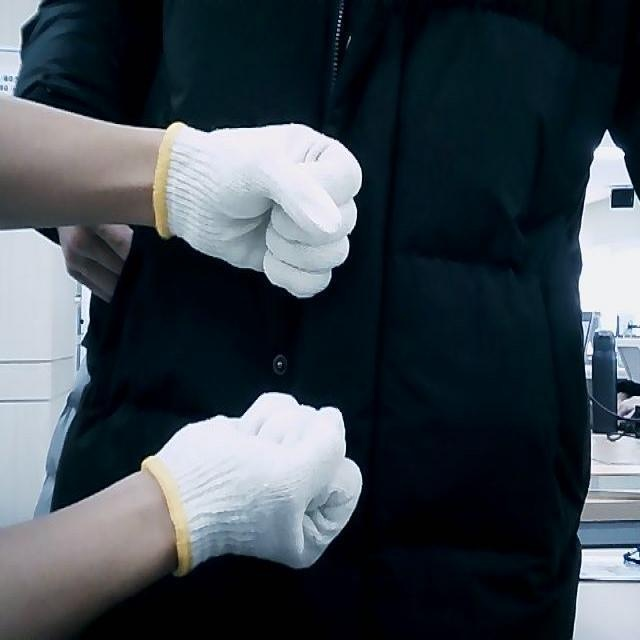Guantes: (142, 394, 363, 574), (156, 121, 362, 302)
